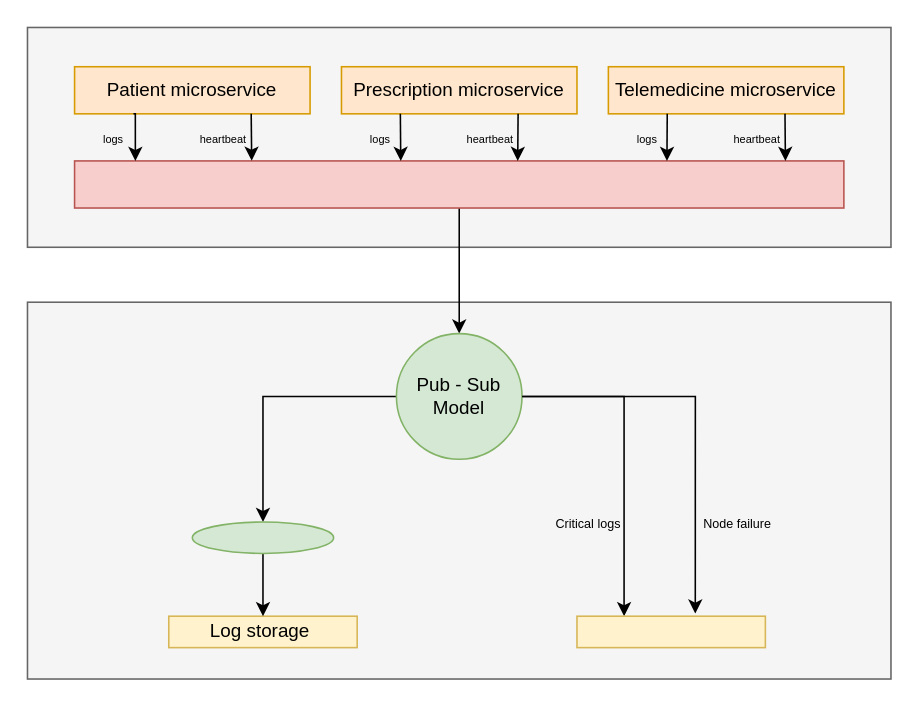
Image size: 918x707. Some labels were removed from this diagram. The box of each missing label's shape, as (x1, y1, x2, y2) in pixels:
Alerting System: (575, 615, 765, 648)
Filterer: (191, 520, 334, 553)
Log accumulator (Fluentd): (73, 159, 844, 208)
